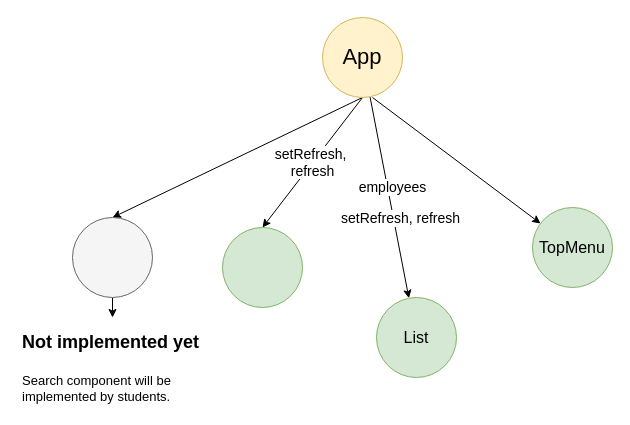
The diagram is 630 pixels wide and 425 high, and some of its shapes have lost their labels. The centre of each missing label's shape, as x and y in pixels:
"Add" goes at pixel 262 267.
"Search" goes at pixel 112 257.
